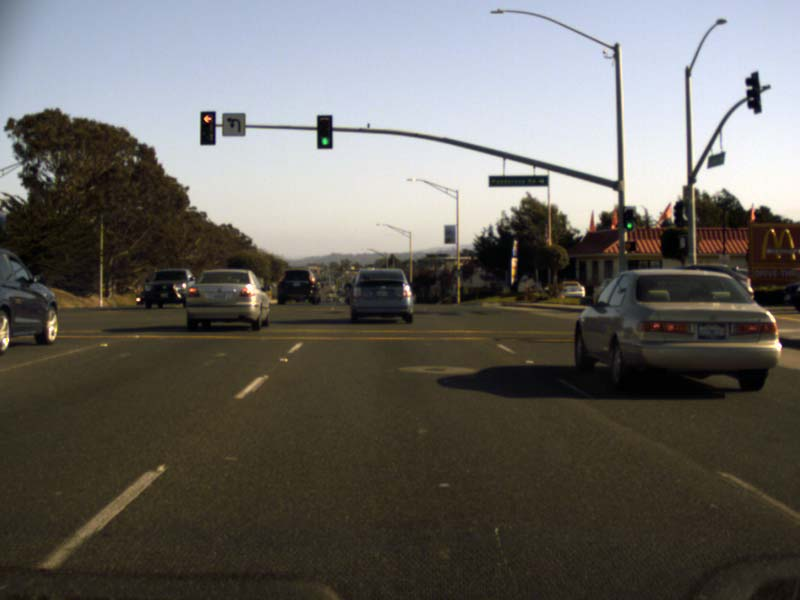Green: (315, 114, 333, 149), (622, 206, 635, 231)
Red: (199, 111, 216, 145)
